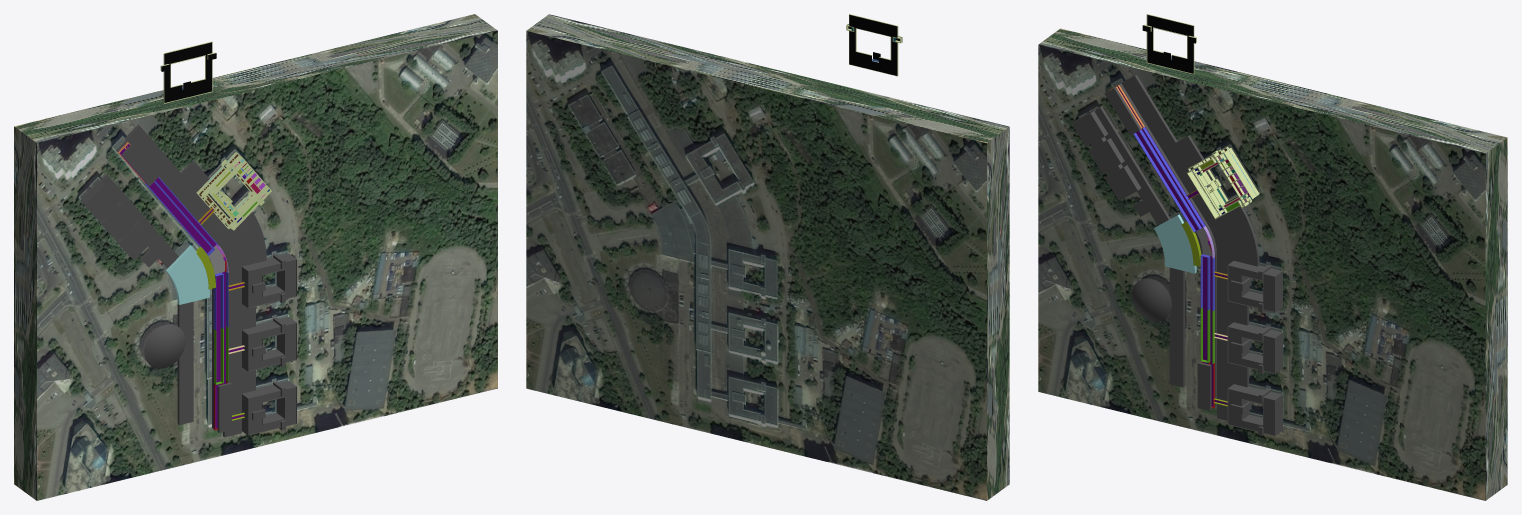
File: mirea_hd.obj
3 renders of one model, left to right at view 1: azimuth 30°, elevation 25°; view 2: azimuth 150°, elevation 25°; view 3: azimuth 330°, elevation 25°, orthographic. The views are drawn at different scales.
Parts seen in each view (by area): view 1: B0L0, B1L0, B0L1, Box061, B4L5, Cylinder006, Box051, B3L5, B2L5, Cylinder002, B4L4T1N1, Box060 (+4 smaller); view 2: B0L0, B4L5; view 3: B0L0, B1L0, B0L1, Box061, B4L5, B2L5, B3L5, Box051, Cylinder006, B4L4T1N1, Cylinder002, B1L1 (+7 smaller).
Part boxes in pixels (x1,y1,x2,y2): B0L0: (14,14,497,500); B1L0: (124,124,266,437); B0L1: (100,174,193,424); Box061: (80,180,153,259); B4L5: (160,41,216,103); Cylinder006: (166,245,209,304); Box051: (247,386,296,435); B3L5: (247,322,296,371); B2L5: (247,259,296,308); Cylinder002: (144,324,185,368); B4L4T1N1: (203,156,271,230); Box060: (217,382,231,432); B0L0: (526,14,1009,500); B4L5: (846,14,902,76); B0L0: (1038,28,1507,500); B1L0: (1121,74,1259,420); B0L1: (1094,107,1184,387); Box061: (1072,109,1140,200); B4L5: (1142,14,1196,74); B2L5: (1227,264,1275,312); B3L5: (1227,326,1275,374); Box051: (1227,388,1275,436); Cylinder006: (1154,214,1196,273); B4L4T1N1: (1187,151,1253,219); Cylinder002: (1132,278,1171,321); B1L1: (1110,83,1216,406).
Bounding box in the file's own units: 585 × 514 × 70.
